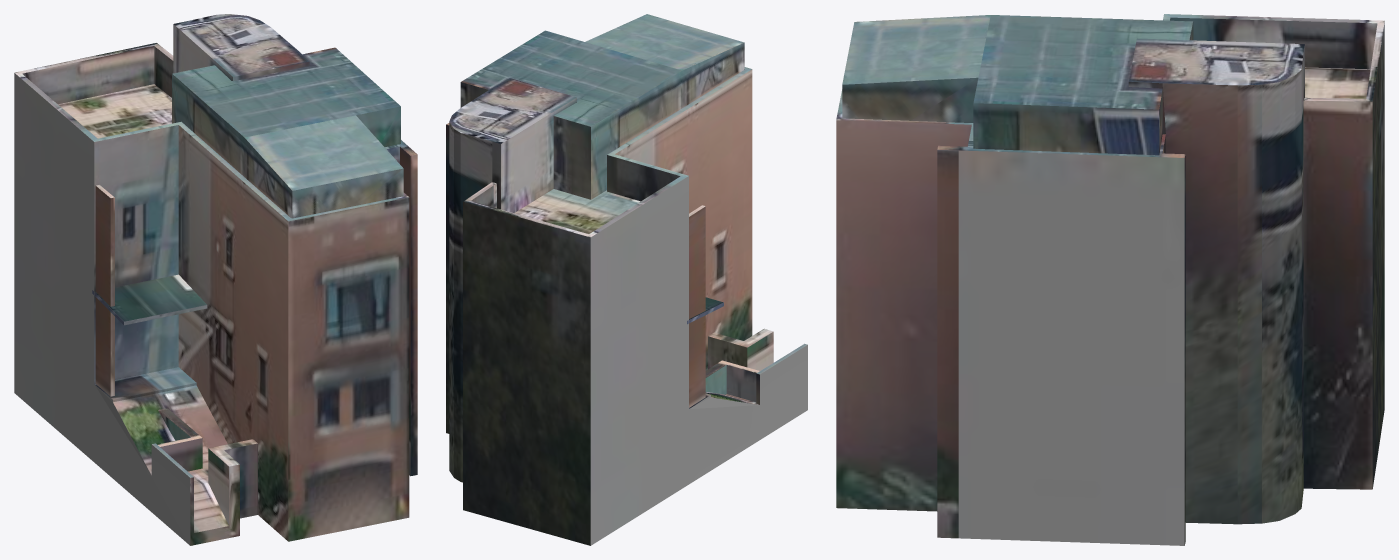
3 renders of one model, left to right at view 1: azimuth 30°, elevation 25°; view 2: azimuth 150°, elevation 25°; view 3: azimuth 270°, elevation 25°, orthographic. The views are drawn at different scales.
Parts seen in each view (by area): view 1: B281014041001063A0; view 2: B281014041001063A0; view 3: B281014041001063A0.
Boxes of the visible parts, x1,y1,x2,y2 form: B281014041001063A0: (14,14,417,545); B281014041001063A0: (446,14,807,545); B281014041001063A0: (836,14,1384,545).
Bounding box in the file's own units: 8.83 × 11.87 × 13.45.
1 material, 1 textured.
